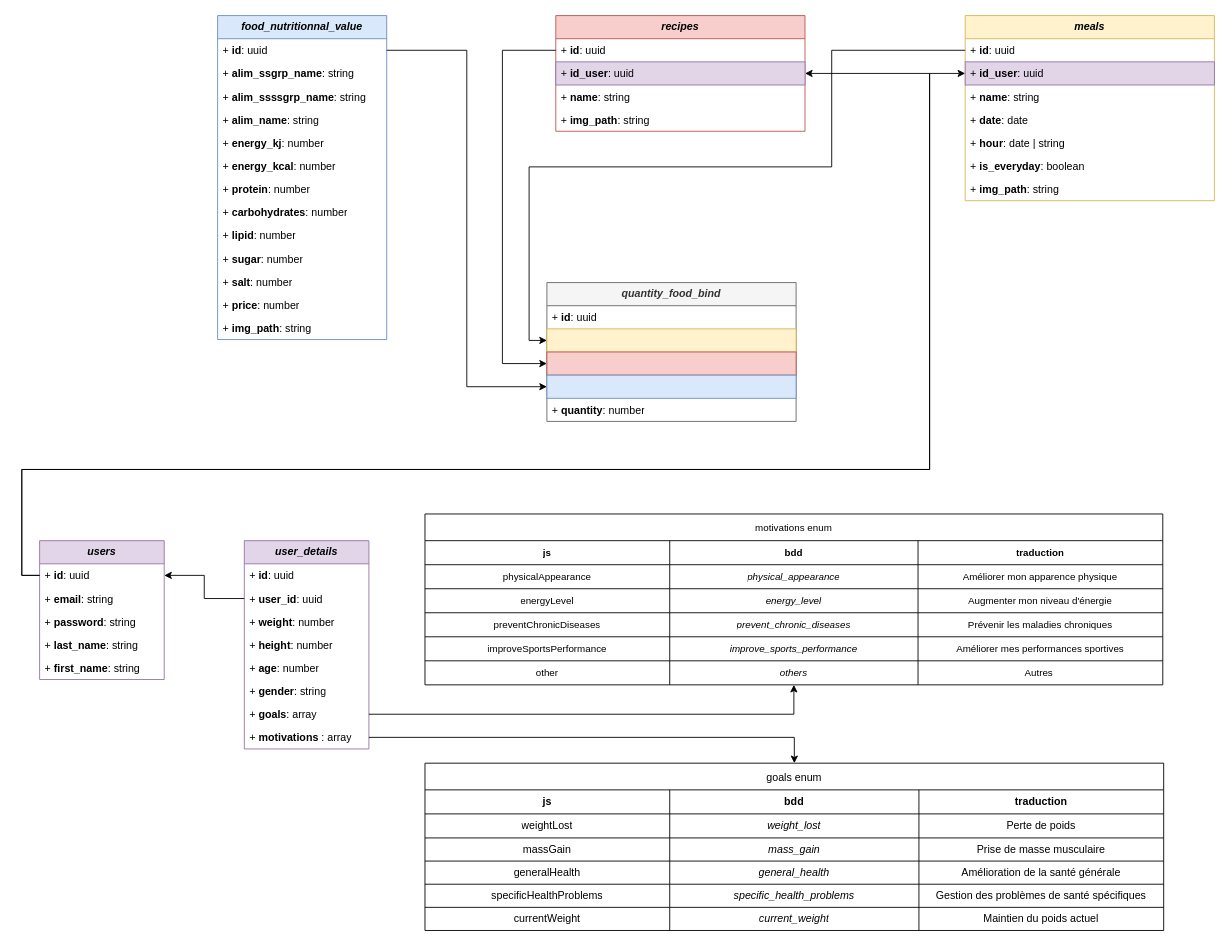
Some shapes in this 1230 by 946 pixel diagram are drawn without their labels. Each missing label, with the centre of its shape:
"+ id_food_nutritionnal_value : uuid" belongs at (671,386).
"+ id_meal : uuid" belongs at (671,340).
"+ id_recipe : uuid" belongs at (671,363).
